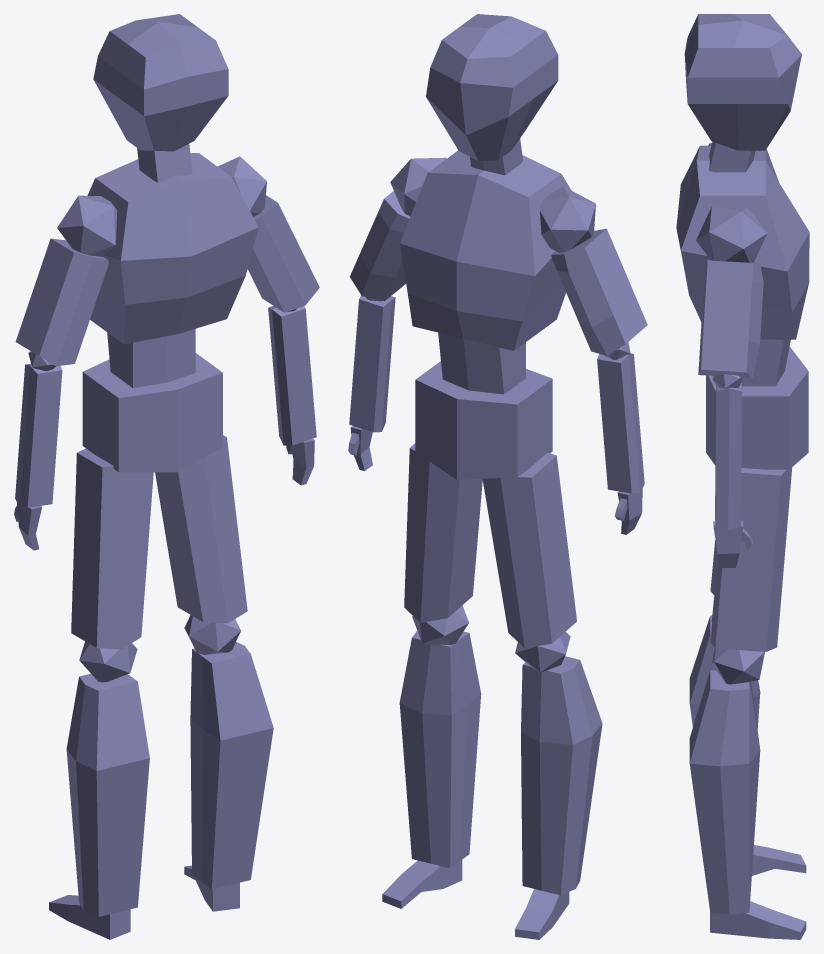
File: human_scale.glb
3 renders of one model, left to right at view 1: azimuth 30°, elevation 25°; view 2: azimuth 150°, elevation 25°; view 3: azimuth 270°, elevation 25°, orthographic. The views are drawn at different scales.
Parts seen in each view (by area): view 1: human_scale; view 2: human_scale; view 3: human_scale.
Boxes of the visible parts, left/top/right/bottom form: human_scale: left=14, top=14, right=319, bottom=939; human_scale: left=348, top=14, right=647, bottom=939; human_scale: left=676, top=14, right=809, bottom=939.
Size of what is drawn, in the model's own units: 0.6173 by 1.79 by 0.2458.
